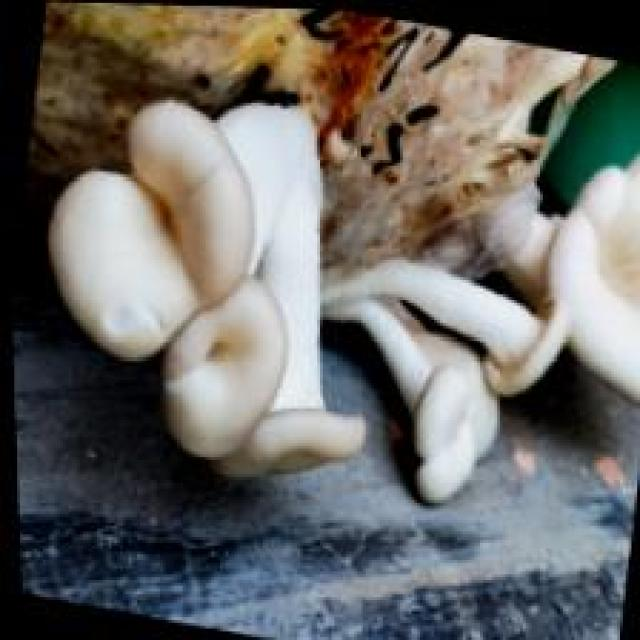chanterelle: (43, 6, 637, 506)
